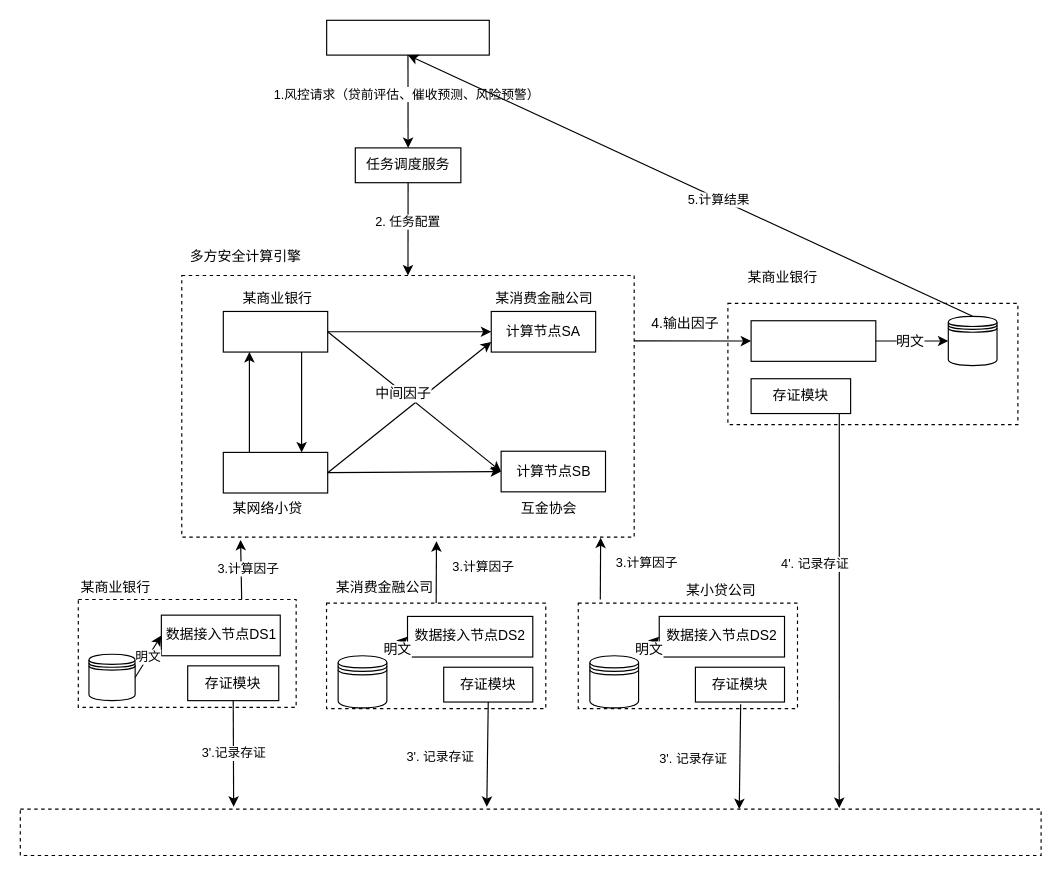
The diagram is 1061 pixels wide and 876 high, and some of its shapes have lost their labels. Here are the shapes that lost their labels. From the top down, the centre of each, then its label:
At pixel 407 37: "某商业银行贷后系统".
At pixel 275 331: "计算节点S1".
At pixel 813 340: "数据输出节点".
At pixel 275 472: "计算节点S2".
At pixel 530 831: "分布式存储服务（存证记录）".
